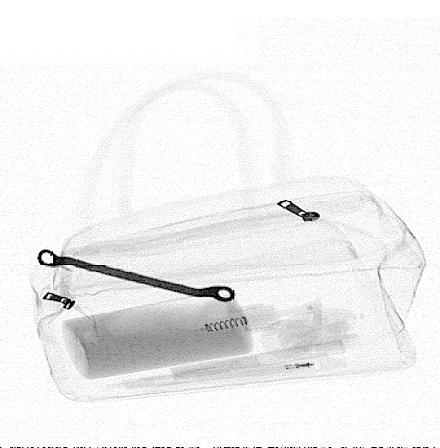Wrench: (36, 247, 238, 305)
